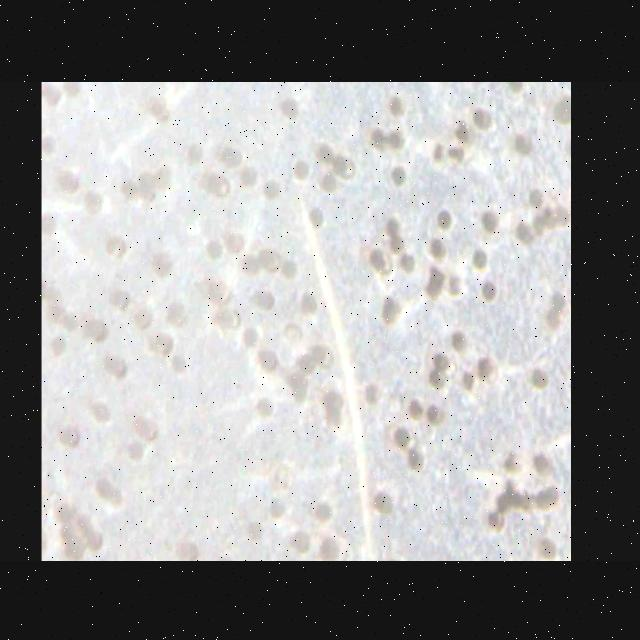Fibre: (290, 159, 388, 559)
